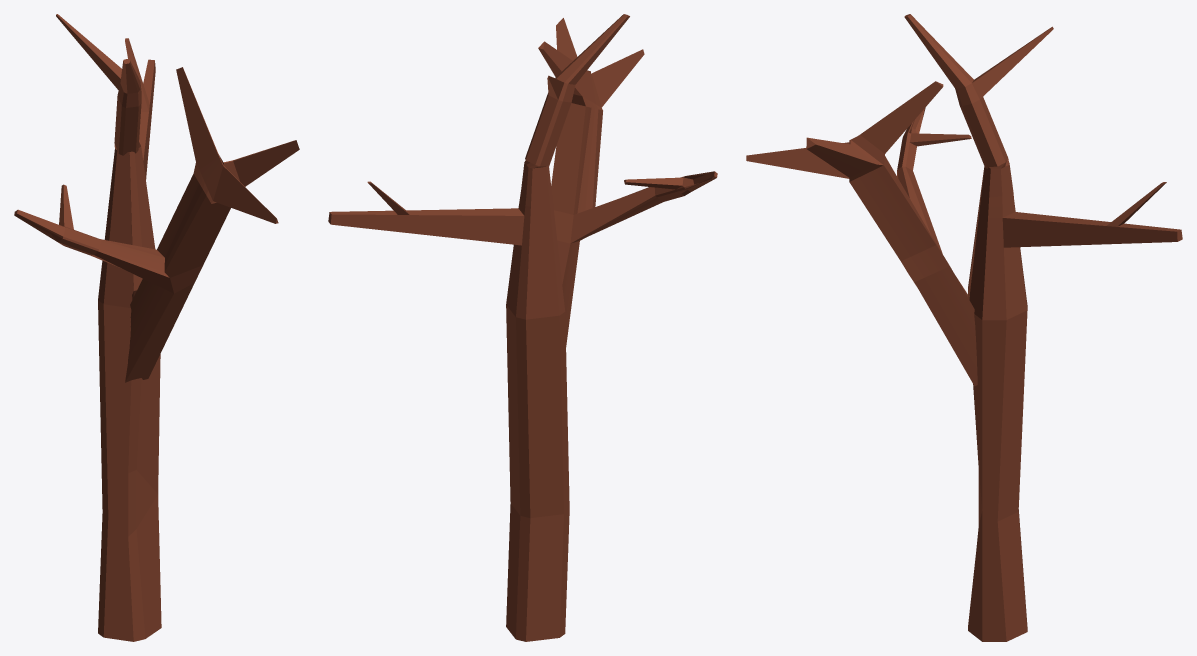
File: tree2.fbx
3 renders of one model, left to right at view 1: azimuth 30°, elevation 25°; view 2: azimuth 150°, elevation 25°; view 3: azimuth 270°, elevation 25°, orthographic. The views are drawn at different scales.
Parts seen in each view (by area): view 1: Cube; view 2: Cube; view 3: Cube.
Boxes of the visible parts, left/top/right/bottom form: Cube: left=14, top=14, right=299, bottom=641; Cube: left=328, top=14, right=717, bottom=641; Cube: left=746, top=14, right=1182, bottom=641.
Bounding box in the file's own units: 164 × 355 × 237.
